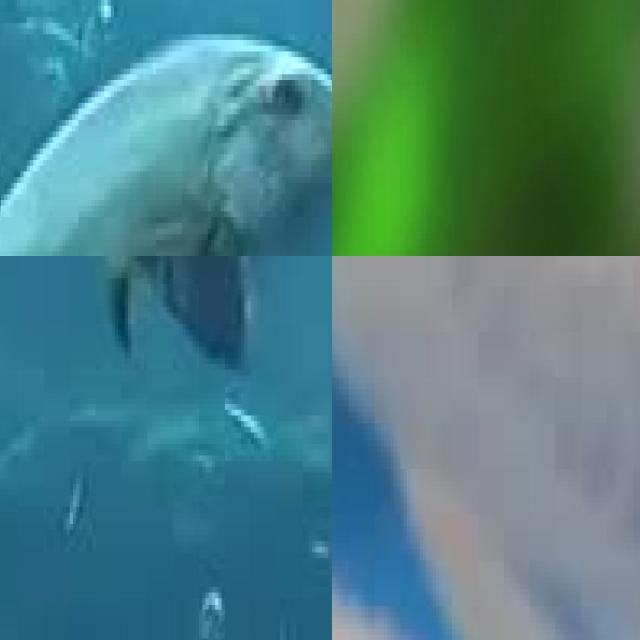fish: (332, 256, 640, 640), (0, 0, 332, 256)
